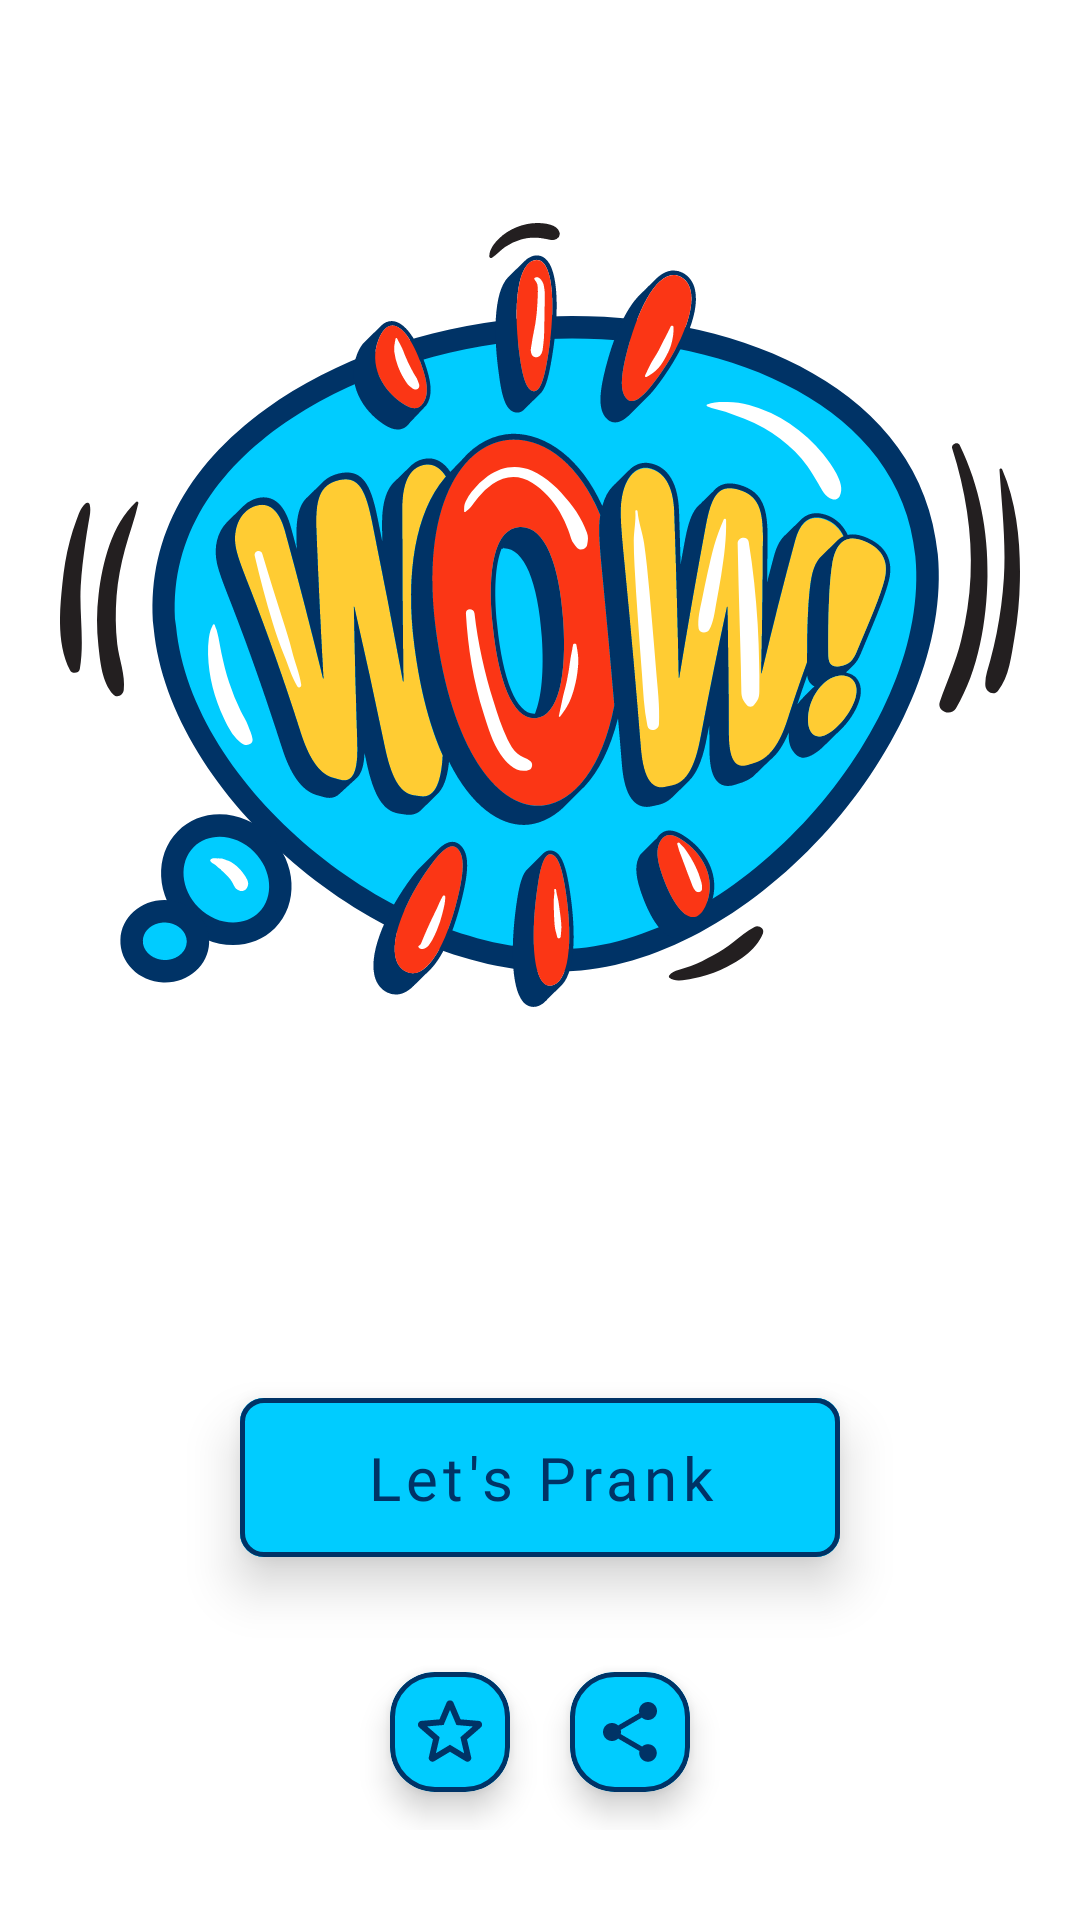

Where to tap for icons on this 1080*1920 app screen, as (x=x, y=y):
rate: (x=450, y=1732)
share: (x=630, y=1732)
